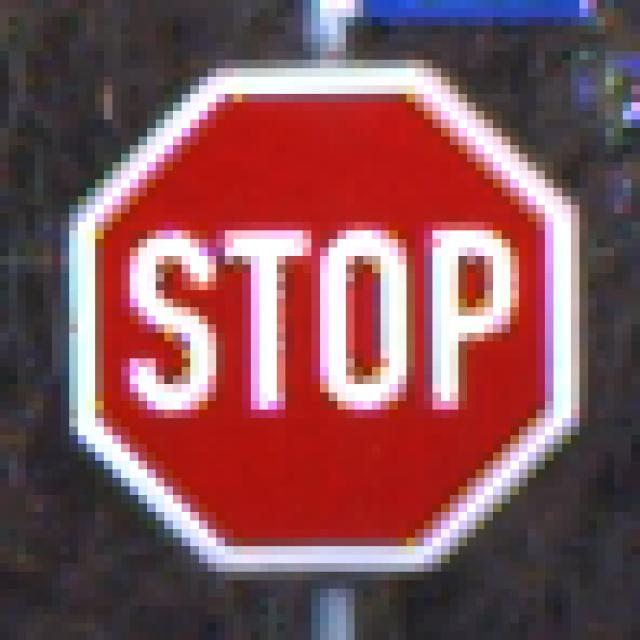STOP: (53, 52, 589, 590)
